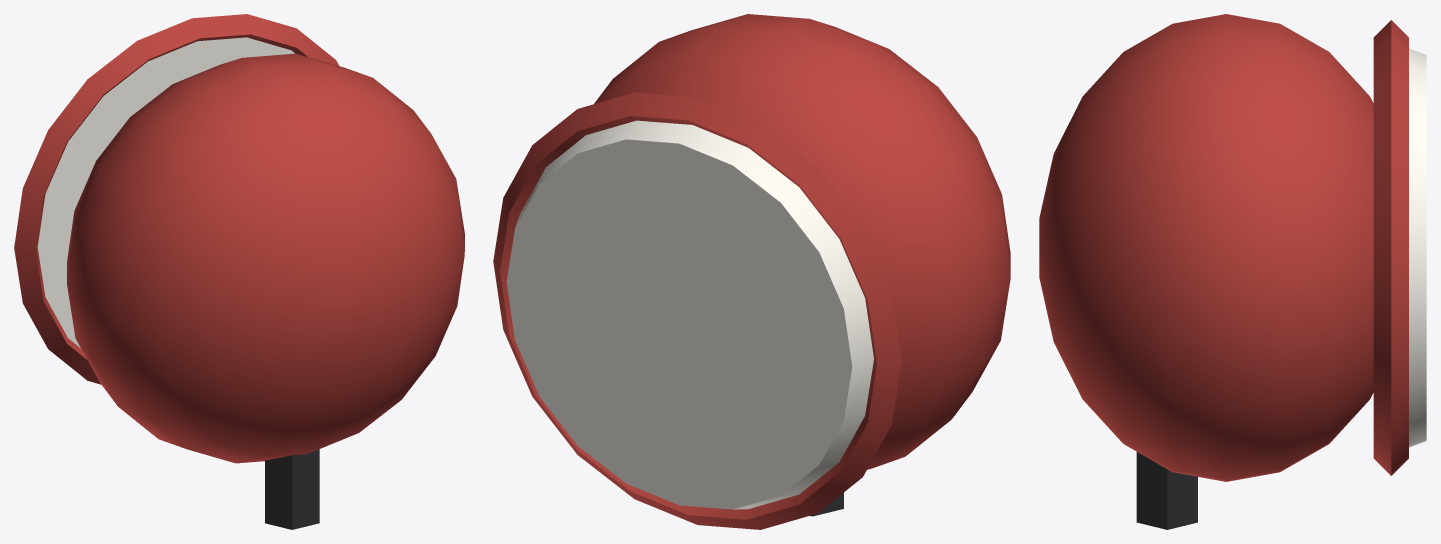
The model's file is round.glb.
3 views of the same model, side by side, from view 1: azimuth 30°, elevation 25°; view 2: azimuth 150°, elevation 25°; view 3: azimuth 270°, elevation 25° (orthographic). The views are drawn at different scales.
Visible parts, largest first — view 1: lod0; view 2: lod0; view 3: lod0.
Part boxes in pixels (bbox=[...]): lod0: bbox=[14, 14, 464, 529]; lod0: bbox=[493, 14, 1010, 529]; lod0: bbox=[1039, 14, 1426, 529].
Size of what is drawn, in the model's own units: 0.08 by 0.09 by 0.0657.
